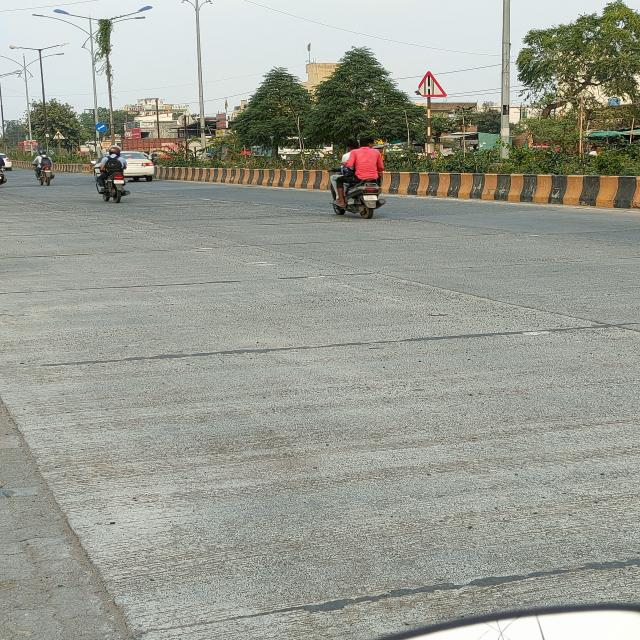GAP_IN_MEDIAN: (413, 72, 449, 98)
